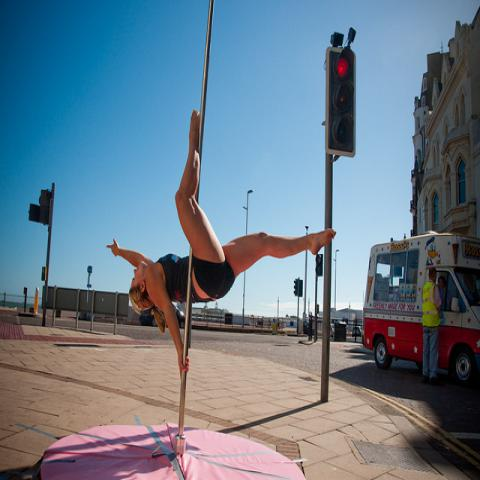car: (139, 304, 185, 329)
truck: (362, 230, 480, 387)
